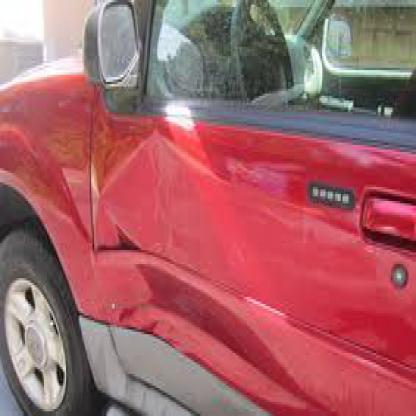dent: (94, 125, 218, 261)
